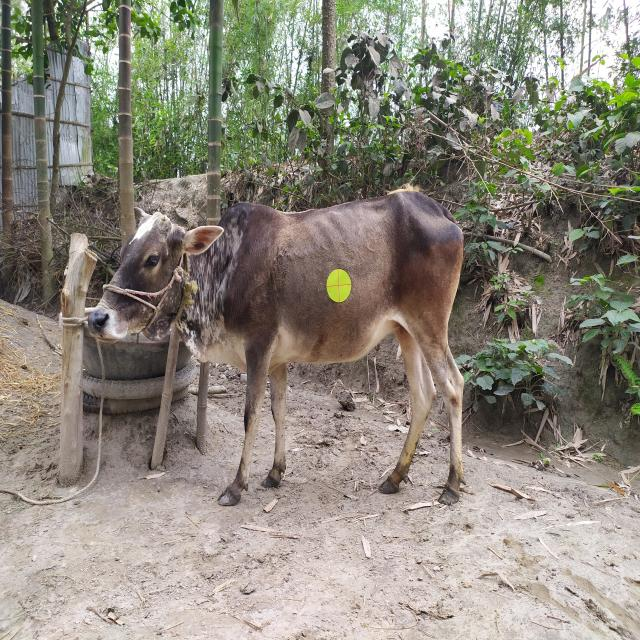badan_sapi: (235, 197, 460, 366)
sapi: (83, 175, 490, 530)
